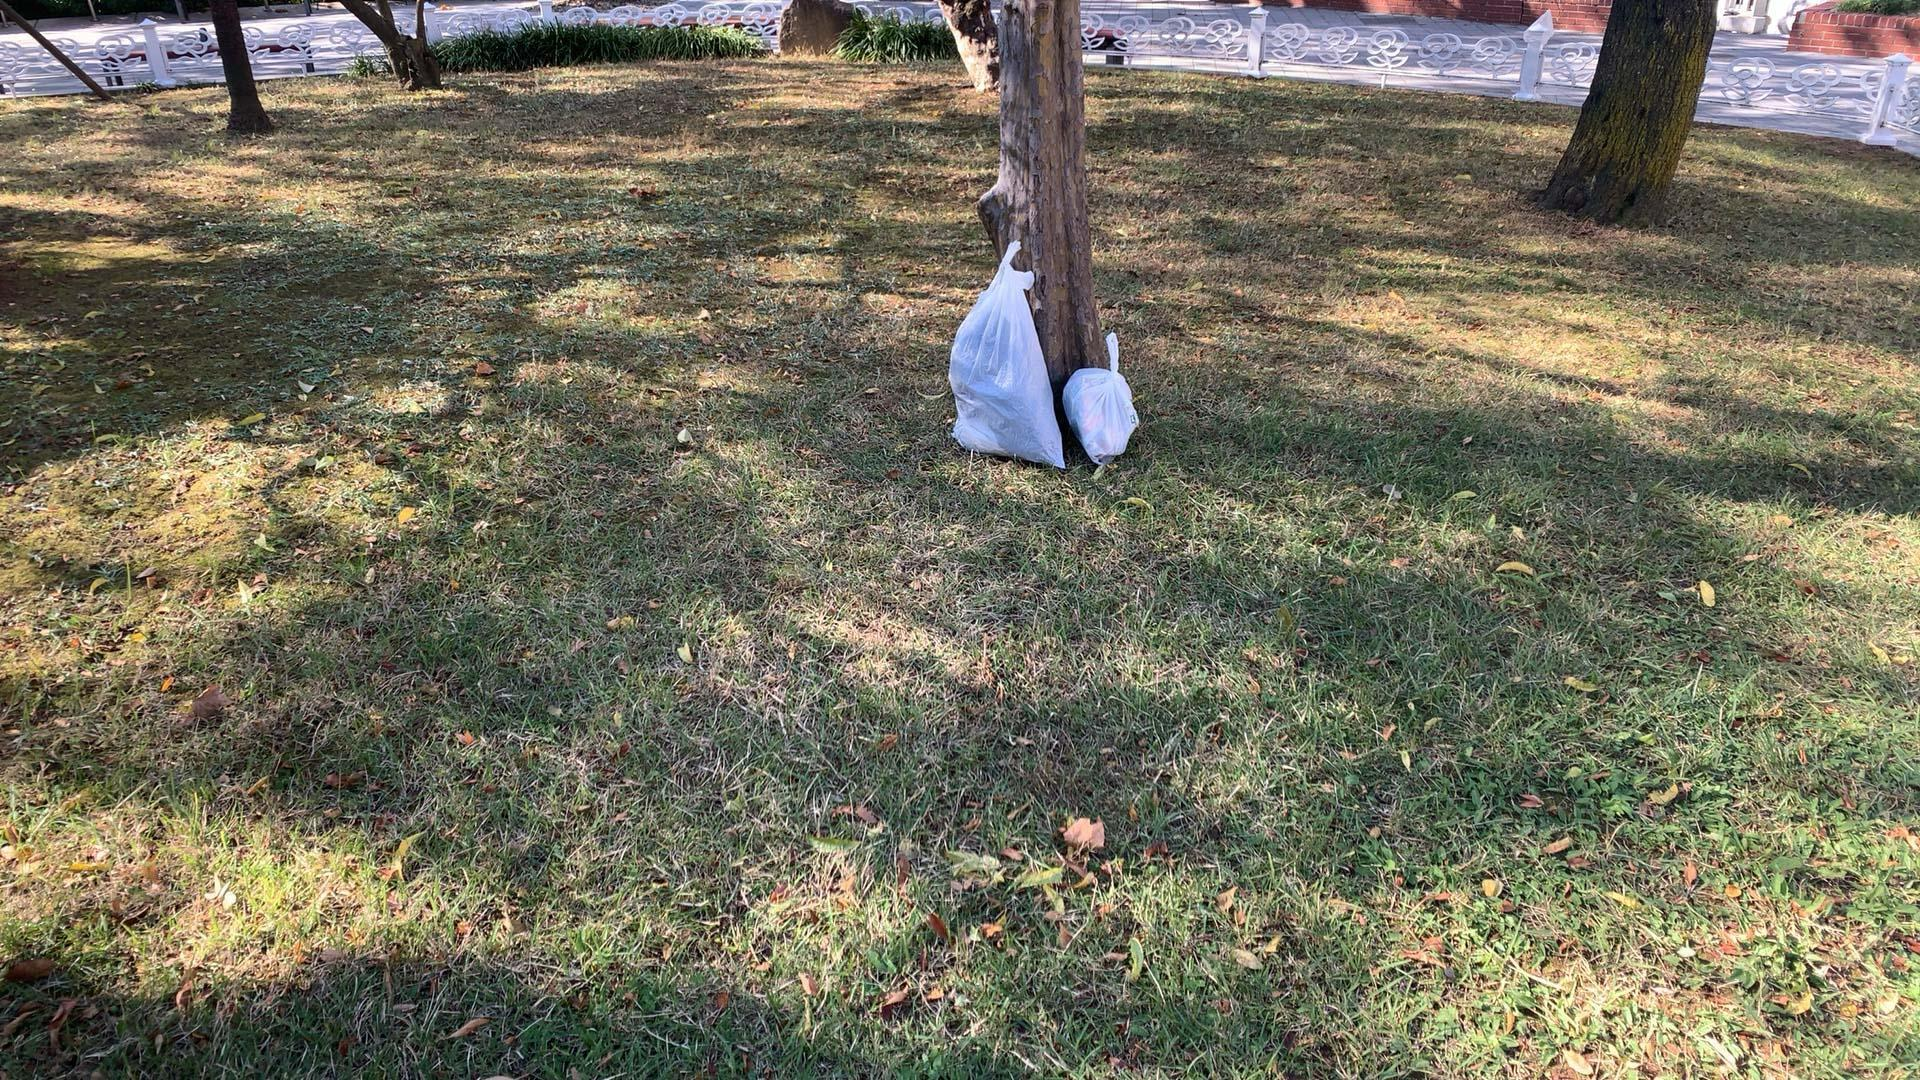white_bag: (926, 228, 1075, 475), (1050, 322, 1154, 465)
